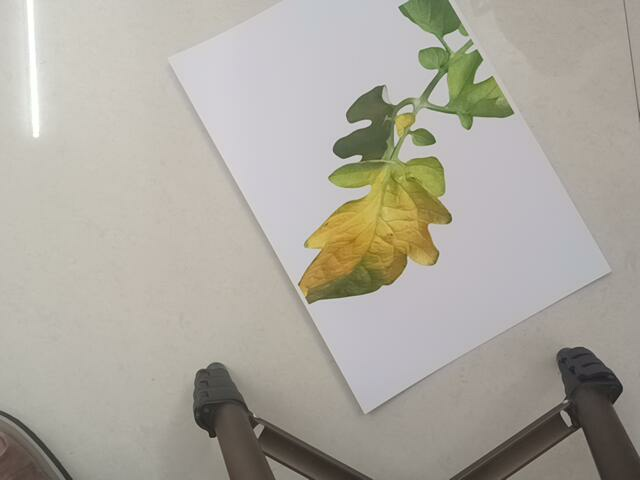Tomamto_Yellow_Disease: (294, 1, 521, 293)
